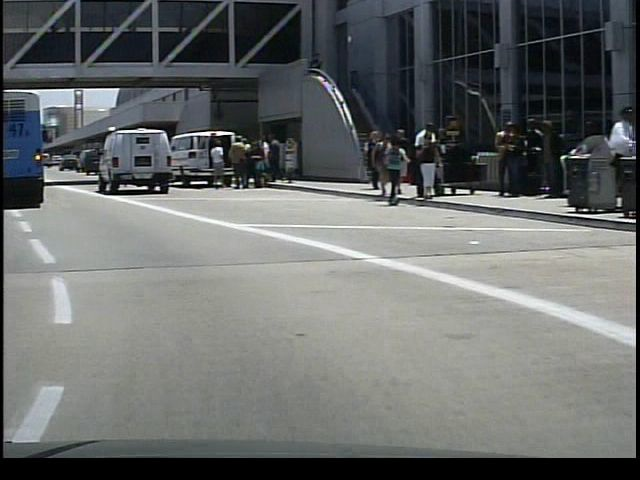person: (568, 101, 626, 213), (412, 121, 443, 201), (410, 130, 437, 202), (222, 137, 250, 192), (261, 132, 283, 183), (205, 136, 223, 192)
